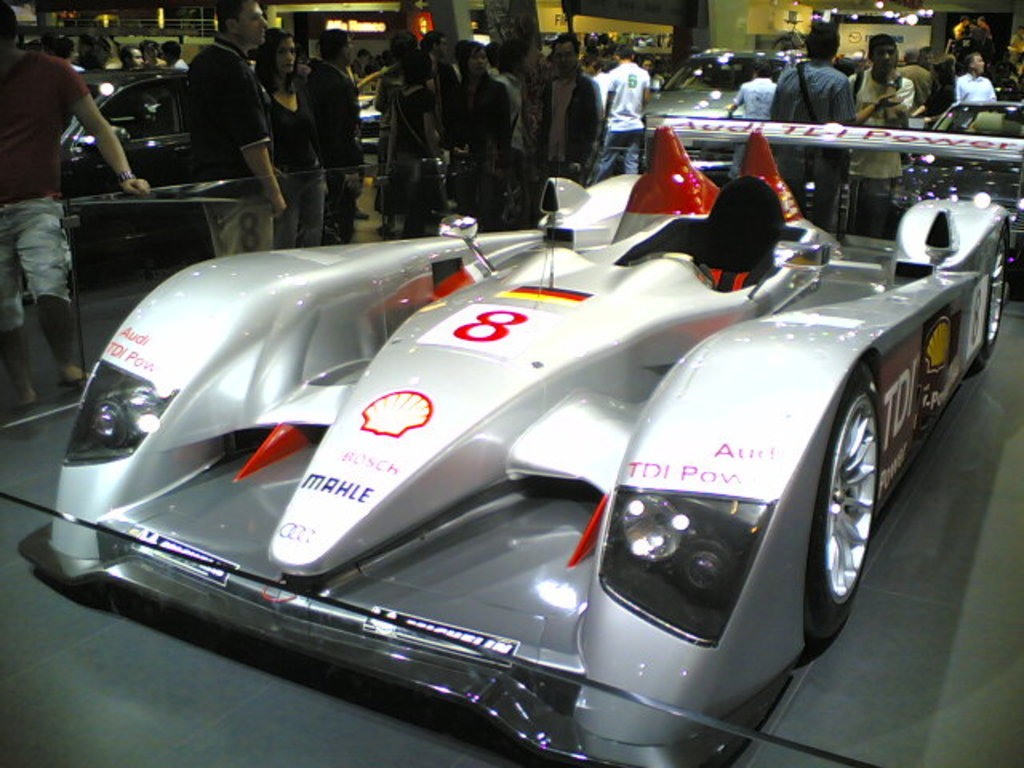Person: (0, 0, 1024, 411)
